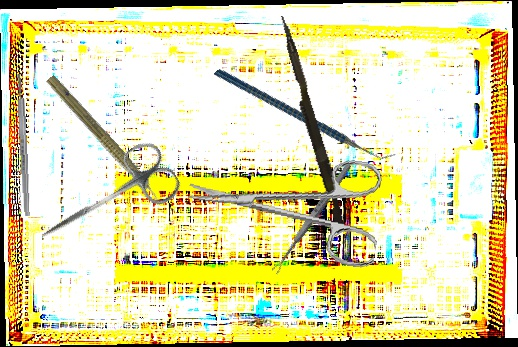Chopper: (213, 18, 398, 209)
Handpiece: (40, 72, 171, 214)
Iris Scissors: (180, 135, 390, 270), (26, 135, 186, 267)
Pusher: (271, 14, 352, 233)
Scalpel Handle: (15, 73, 31, 217)
Surgical Spoon: (270, 162, 353, 275)
